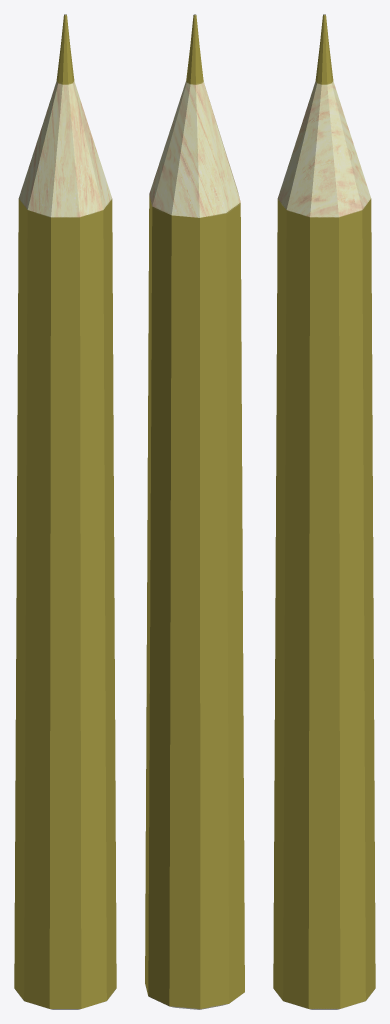
The model's file is lapis_TEXTURIZADO_AMARELO.fbx.
3 views of the same model, side by side, from view 1: azimuth 90°, elevation 25°; view 2: azimuth 150°, elevation 25°; view 3: azimuth 270°, elevation 25° (orthographic).
Parts seen in each view (by area): view 1: amarelo; view 2: amarelo; view 3: amarelo.
Boxes of the visible parts, box(x1,y1,x2,y2) form: amarelo: box(14, 14, 116, 1009); amarelo: box(145, 14, 244, 1009); amarelo: box(273, 14, 375, 1009).
Bounding box in the file's own units: 1.55 × 17.18 × 1.63.
1 material, 1 textured.
